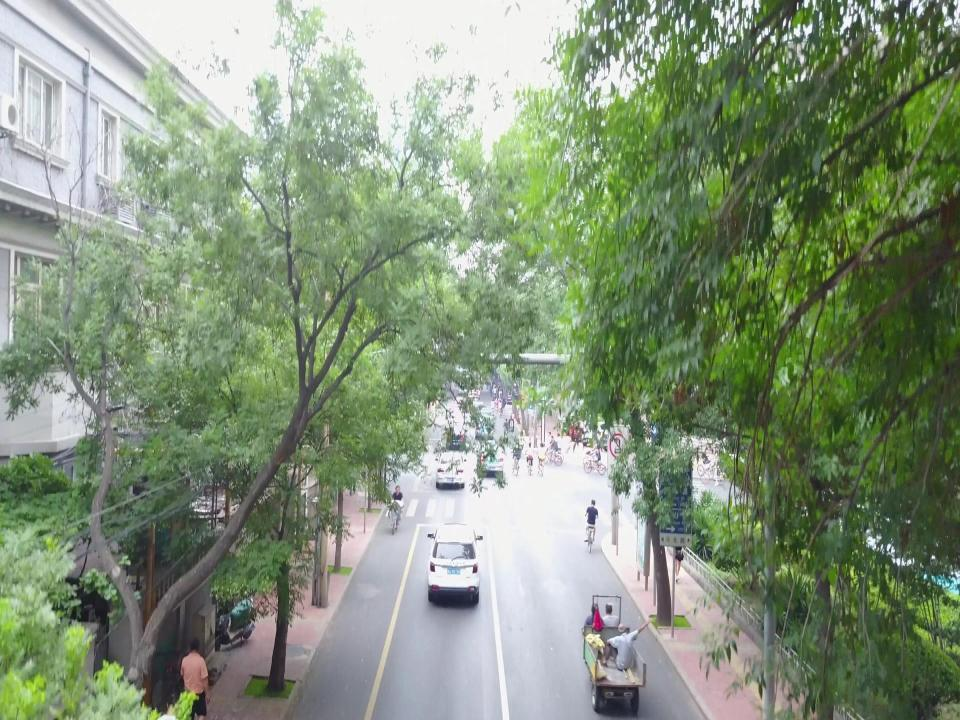car: (427, 523, 483, 603), (434, 451, 466, 488), (476, 439, 504, 478), (475, 410, 496, 441), (444, 422, 467, 449)
